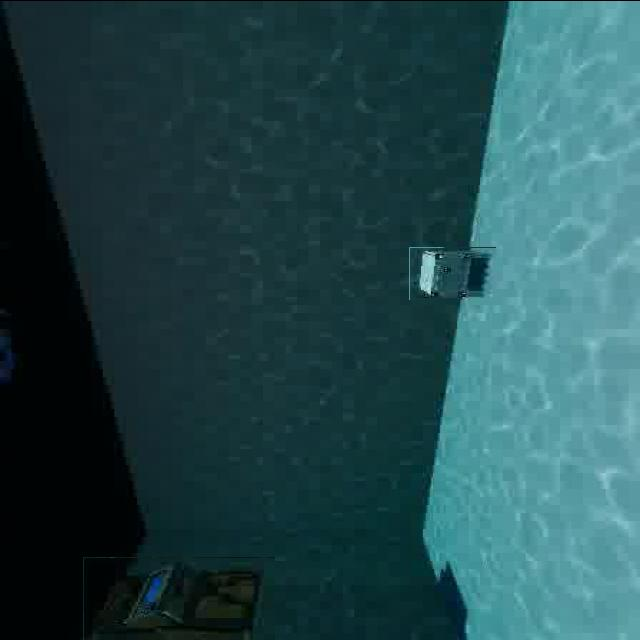Control Panel: (83, 556, 275, 640)
Docking Station: (409, 246, 496, 299)
